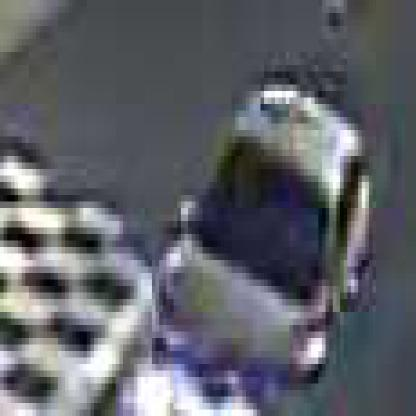car: (160, 85, 370, 391)
